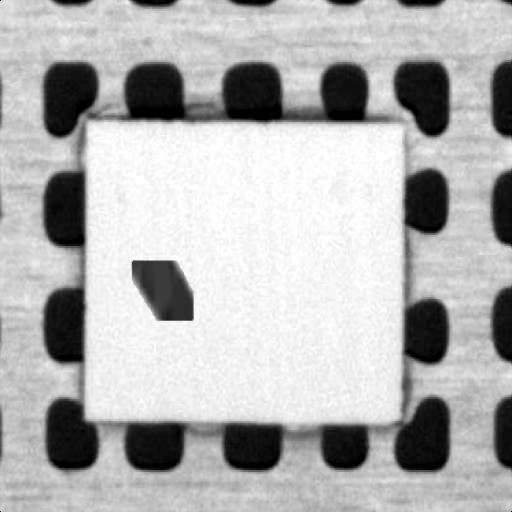DIE_INK: (173, 195, 255, 240)
